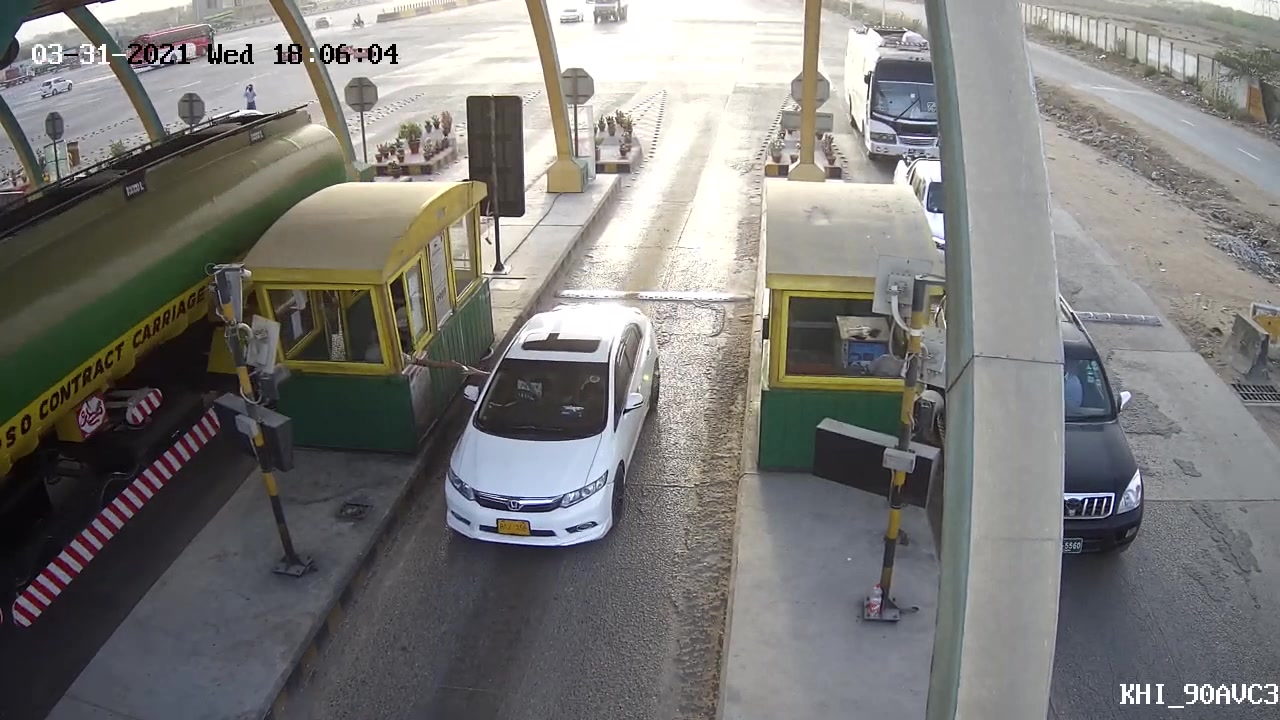F1: (431, 298, 666, 549)
